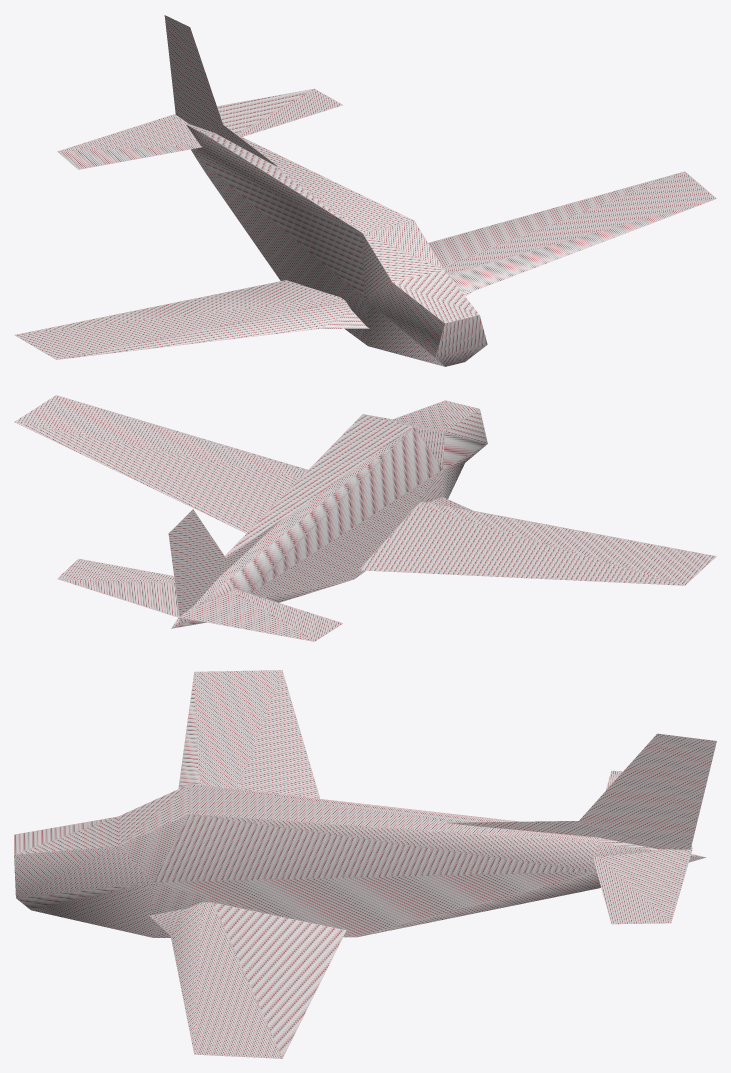
The model's file is Bonanza_g36_LOD06.gltf.
The picture shows the model from 3 angles, top to bottom: view 1: azimuth 30°, elevation 25°; view 2: azimuth 150°, elevation 25°; view 3: azimuth 270°, elevation 25°; orthographic projection. The views are drawn at different scales.
Visible parts, largest first — view 1: fuselage; view 2: fuselage; view 3: fuselage.
Boxes of the visible parts, x1,y1,x2,y2 form: fuselage: [14, 15, 716, 366]; fuselage: [14, 395, 716, 641]; fuselage: [14, 670, 716, 1058].
Size of the model in its own units: 10.3 by 2.28 by 7.87.
